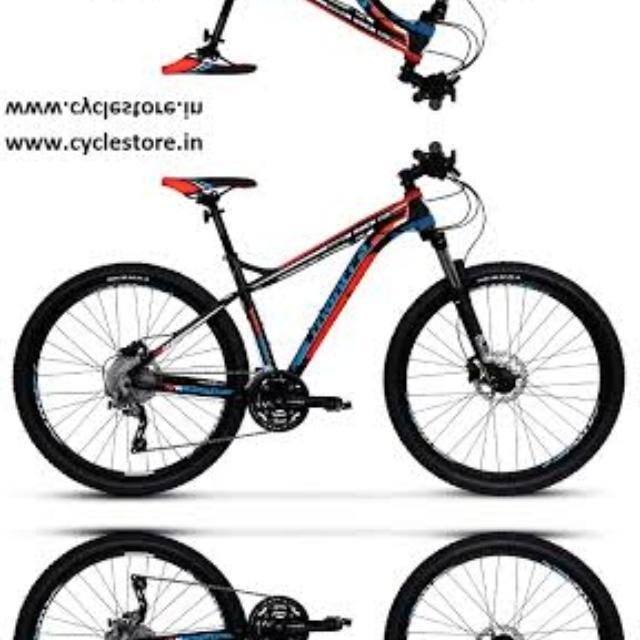obstacle: (6, 136, 640, 504), (6, 523, 640, 640), (6, 0, 640, 114)
